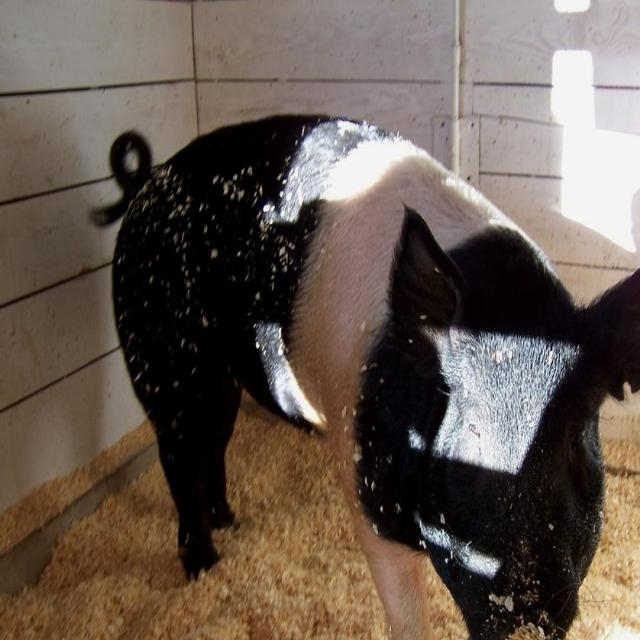pig: (98, 115, 640, 637), (112, 115, 640, 637)
